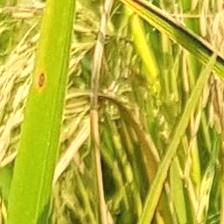Bacterial_Leaf_Blight: (33, 65, 49, 92)
